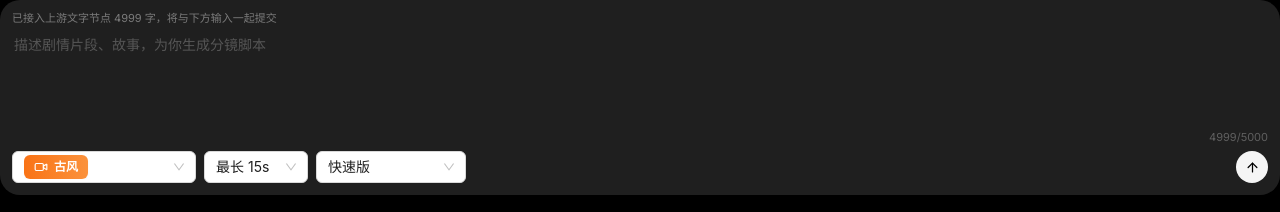
Test: ScriptGenerator › 合并剧本超过 5000 字禁用提交并标红字数
The image size is (1280, 212).
Check: the text "古风" is shown, box [24,155,88,179]
Type "超限的补充文本" into the text box with test id "script-generator-input" at (640, 81), box [12,33,1268,129]
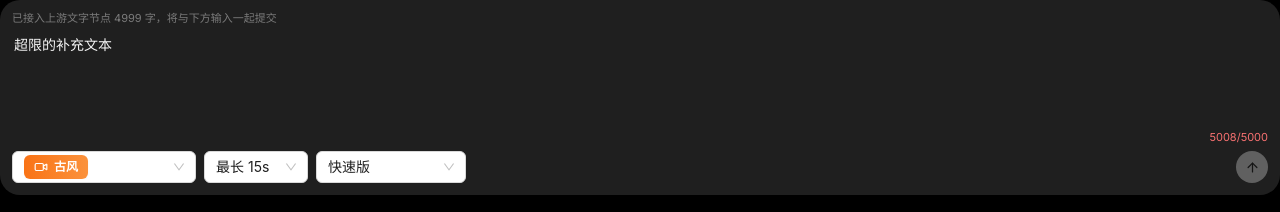
Check: the button with test id "script-generator-submit" is disabled, box [1236,151,1268,183]
